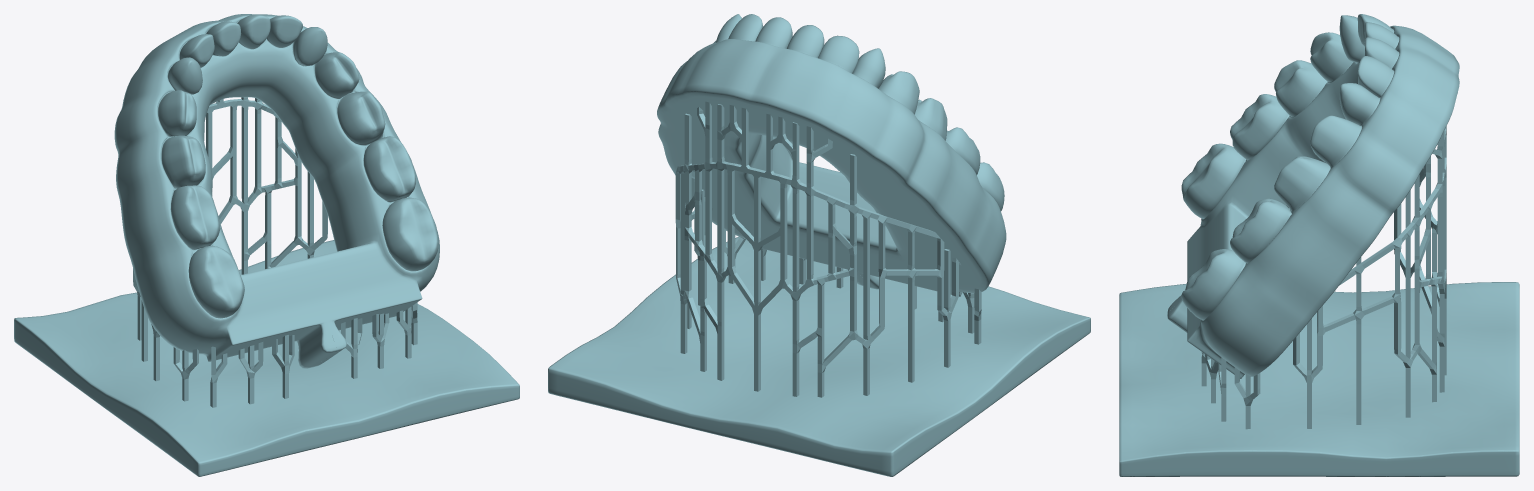
The model's file is slepok.obj.
3 views of the same model, side by side, from view 1: azimuth 30°, elevation 25°; view 2: azimuth 150°, elevation 25°; view 3: azimuth 270°, elevation 25° (orthographic). The views are drawn at different scales.
Visible parts, largest first — view 1: support_Plane.003; view 2: support_Plane.003; view 3: support_Plane.003.
Part boxes in pixels (x1,y1,x2,y2): support_Plane.003: (14,14,519,476); support_Plane.003: (548,14,1090,476); support_Plane.003: (1119,14,1519,476).
Size of the model in its own units: 17.01 by 16.94 by 17.01.
